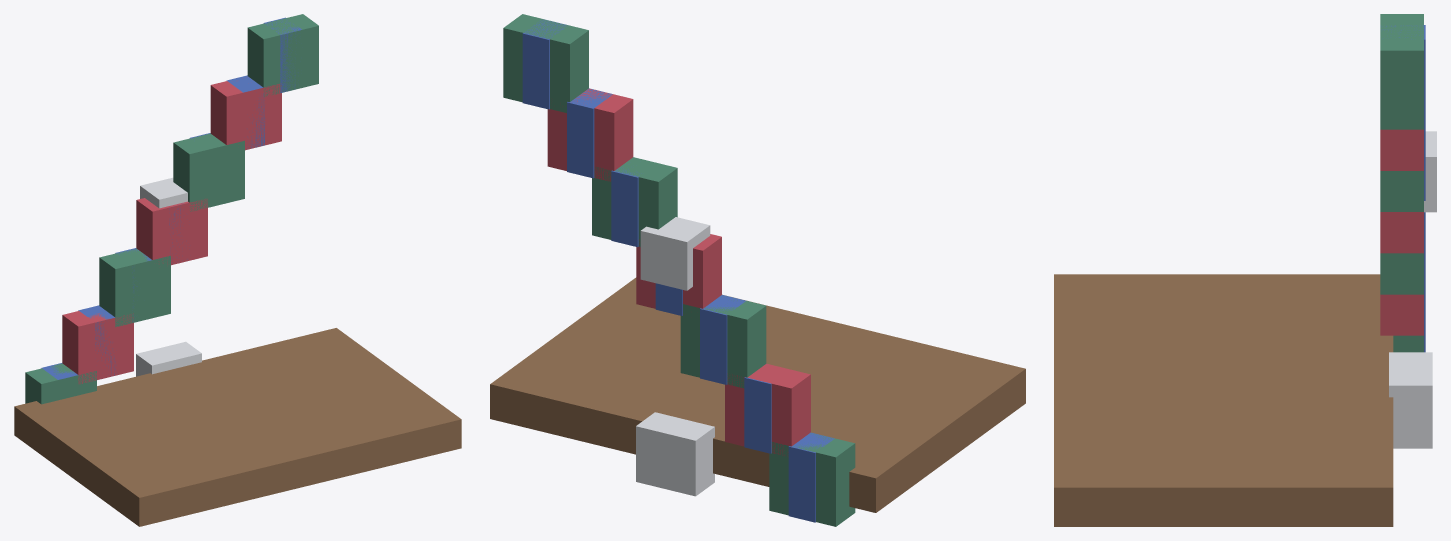
File: kilt_tronco.glb
The picture shows the model from 3 angles, left to right: view 1: azimuth 30°, elevation 25°; view 2: azimuth 150°, elevation 25°; view 3: azimuth 270°, elevation 25°; orthographic projection. The views are drawn at different scales.
Visible parts, largest first — view 1: kilt_tronco; view 2: kilt_tronco; view 3: kilt_tronco.
Boxes of the visible parts, left/top/right/bottom form: kilt_tronco: left=14, top=14, right=461, bottom=526; kilt_tronco: left=490, top=14, right=1025, bottom=526; kilt_tronco: left=1054, top=14, right=1436, bottom=526.
Size of the model in its own units: 0.58 by 0.6 by 0.44.
